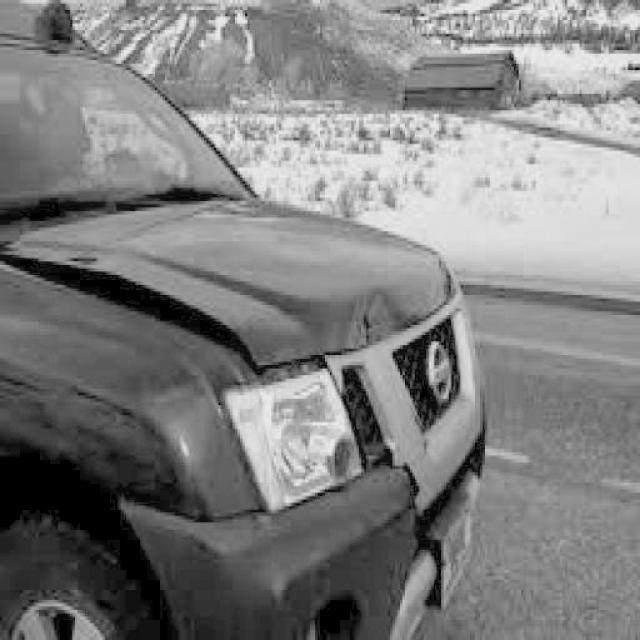car damage: (3, 247, 428, 371)
